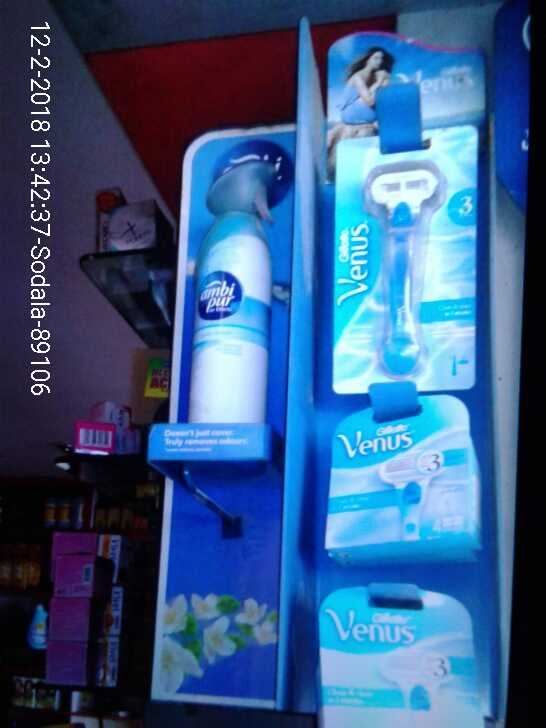beauty: (341, 141, 476, 377), (305, 586, 497, 728), (322, 400, 479, 552)
home: (184, 151, 282, 429)
